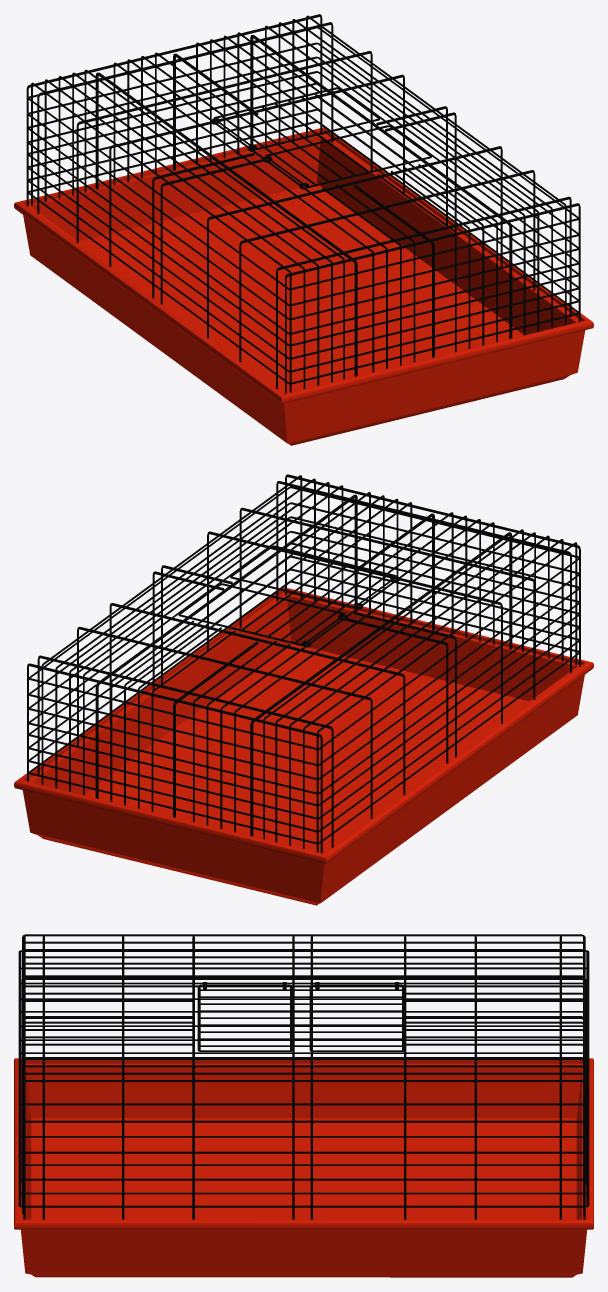
Rendered from SM_PetiteCage.fbx.
3 renders of one model, top to bottom at view 1: azimuth 30°, elevation 25°; view 2: azimuth 150°, elevation 25°; view 3: azimuth 270°, elevation 25°, orthographic. The views are drawn at different scales.
Parts seen in each view (by area): view 1: pTorus72; view 2: pTorus72; view 3: pTorus72.
Boxes of the visible parts, x1,y1,x2,y2 form: pTorus72: (14,14,593,445); pTorus72: (14,474,593,905); pTorus72: (14,934,593,1277).
Size of the model in its own units: 41.4 by 23.08 by 61.4.
